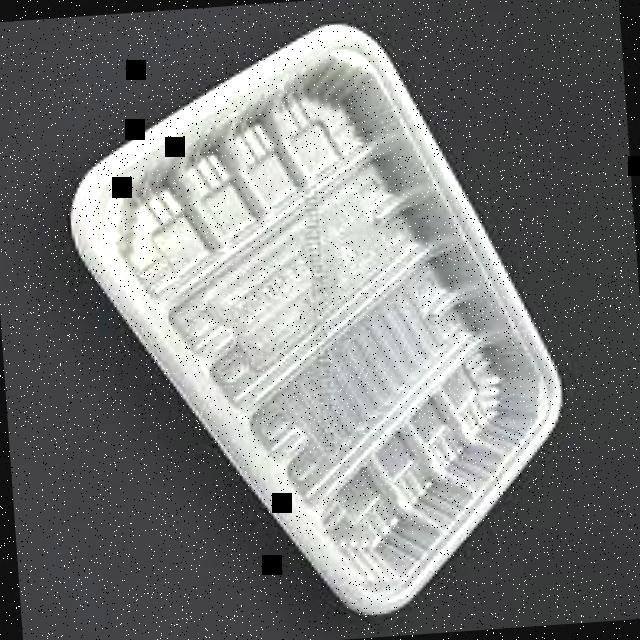plastic_box: (59, 10, 571, 630)
